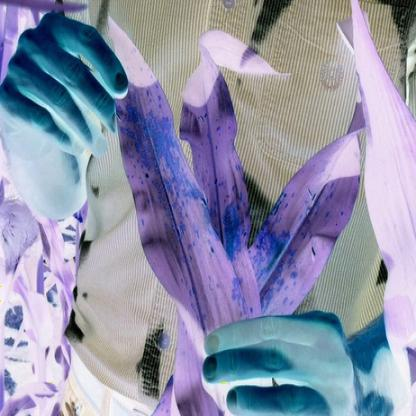corn rust leaf: (120, 104, 245, 328), (173, 42, 267, 323)
